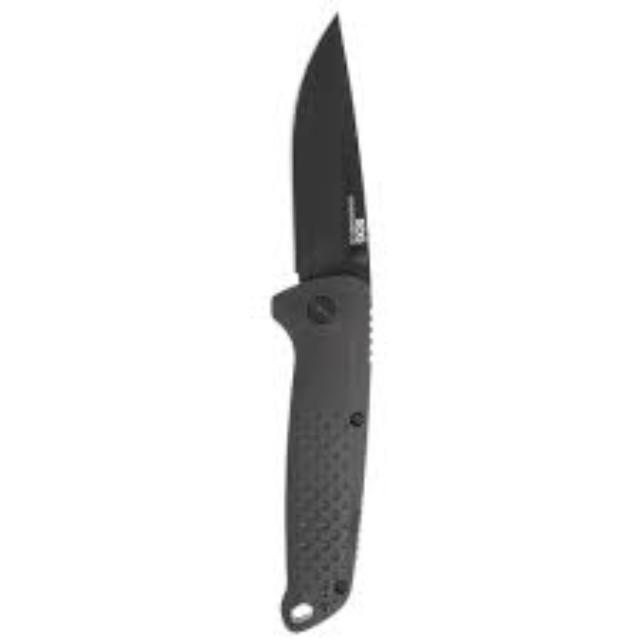Knife: (270, 9, 372, 631)
